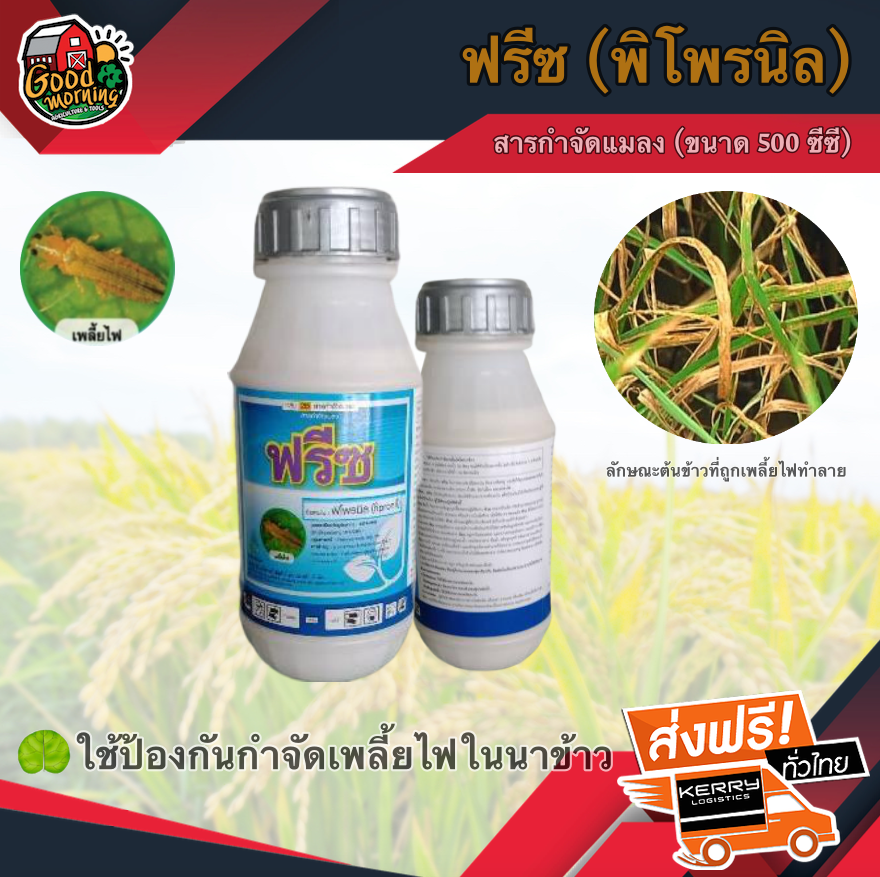Insecticide: (221, 181, 426, 691), (409, 268, 568, 676)
